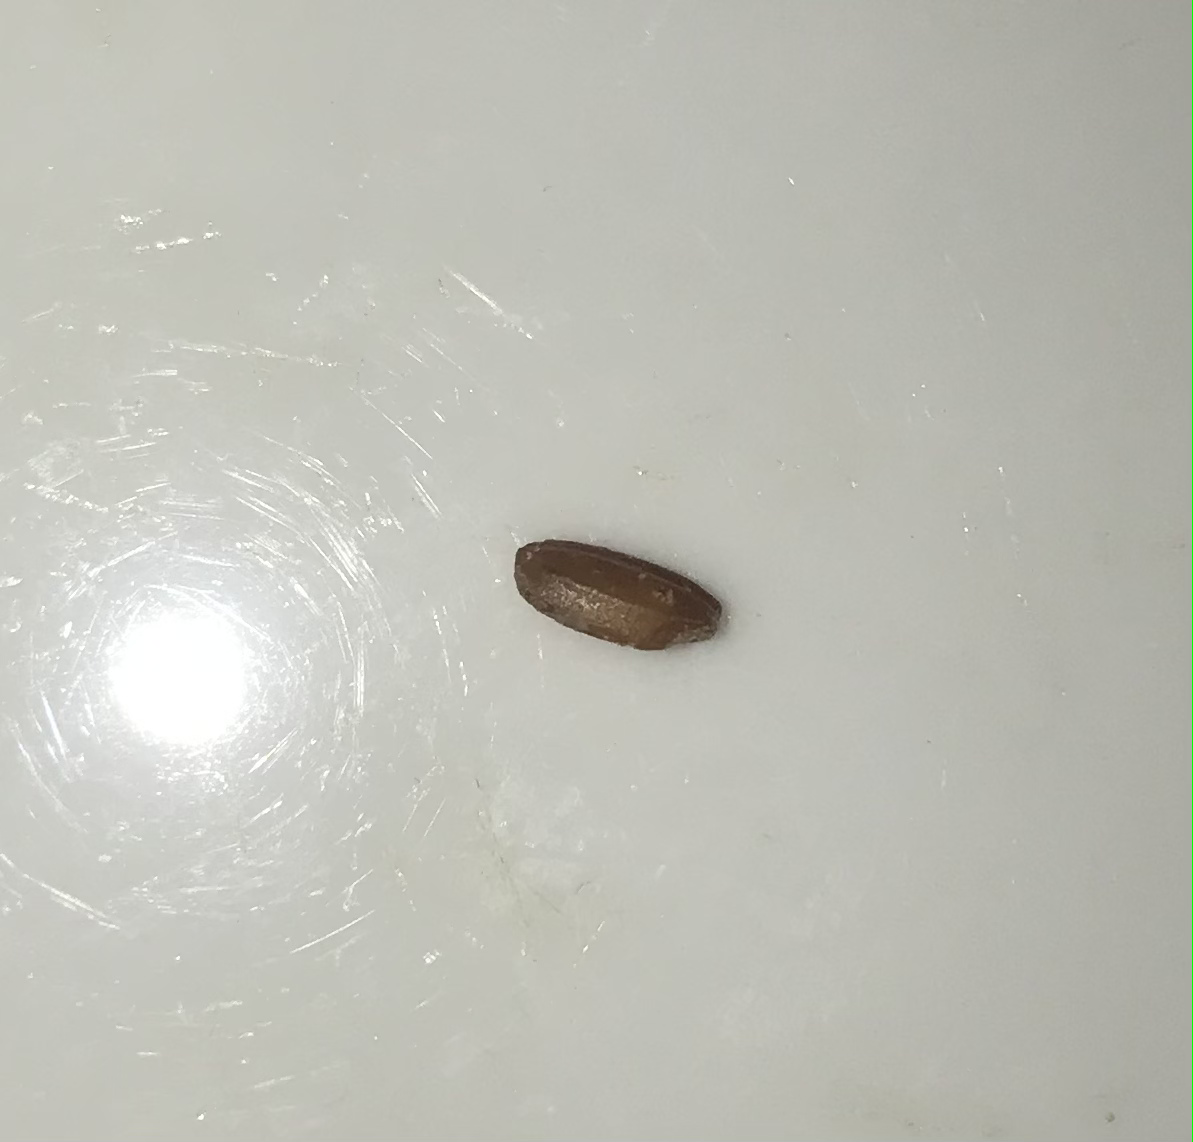Gao Lut Do: (499, 523, 755, 683)
